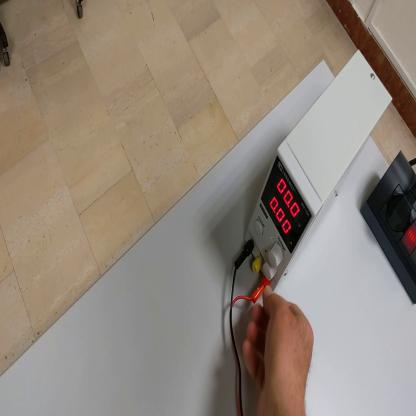hand: (243, 287, 316, 415)
power supply: (244, 50, 394, 291)
socket: (361, 154, 416, 308)
